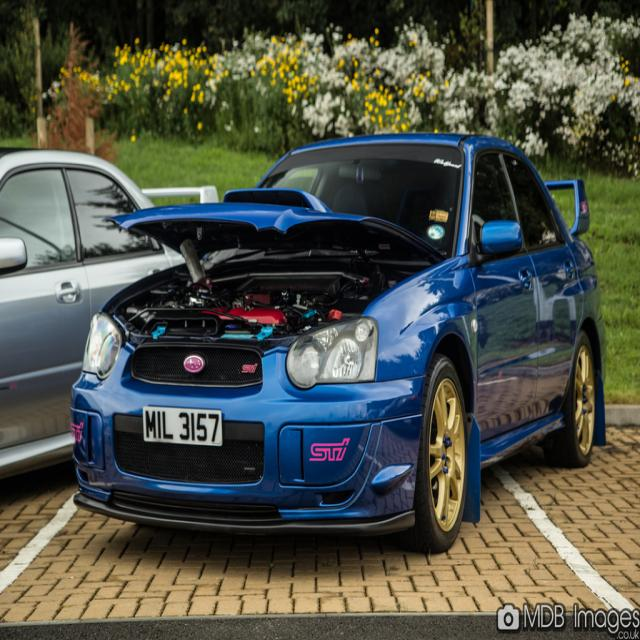car: (72, 134, 583, 558)
